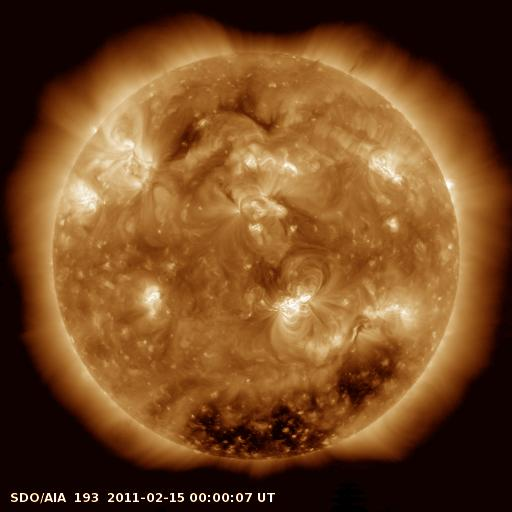coronal_hole: (180, 336, 406, 461)
